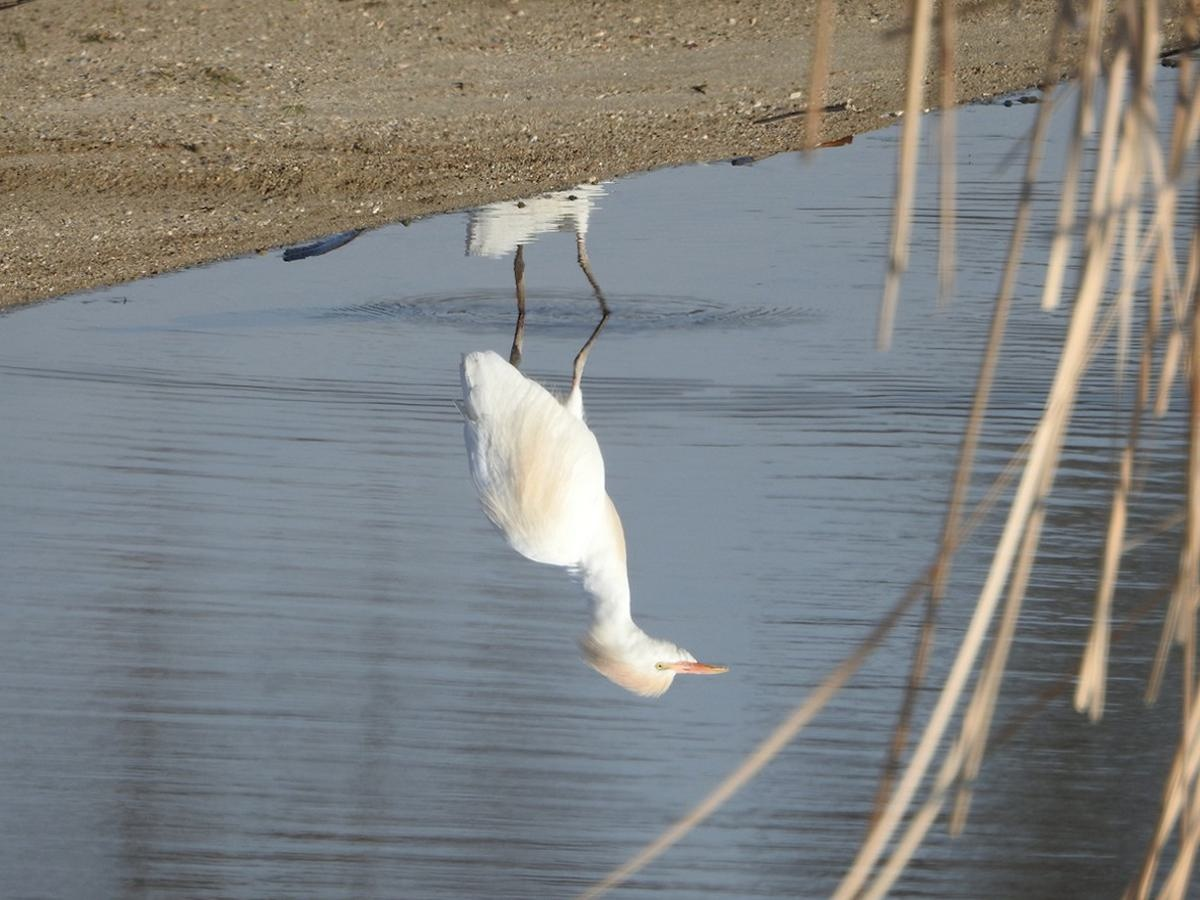egret: (429, 214, 755, 750)
